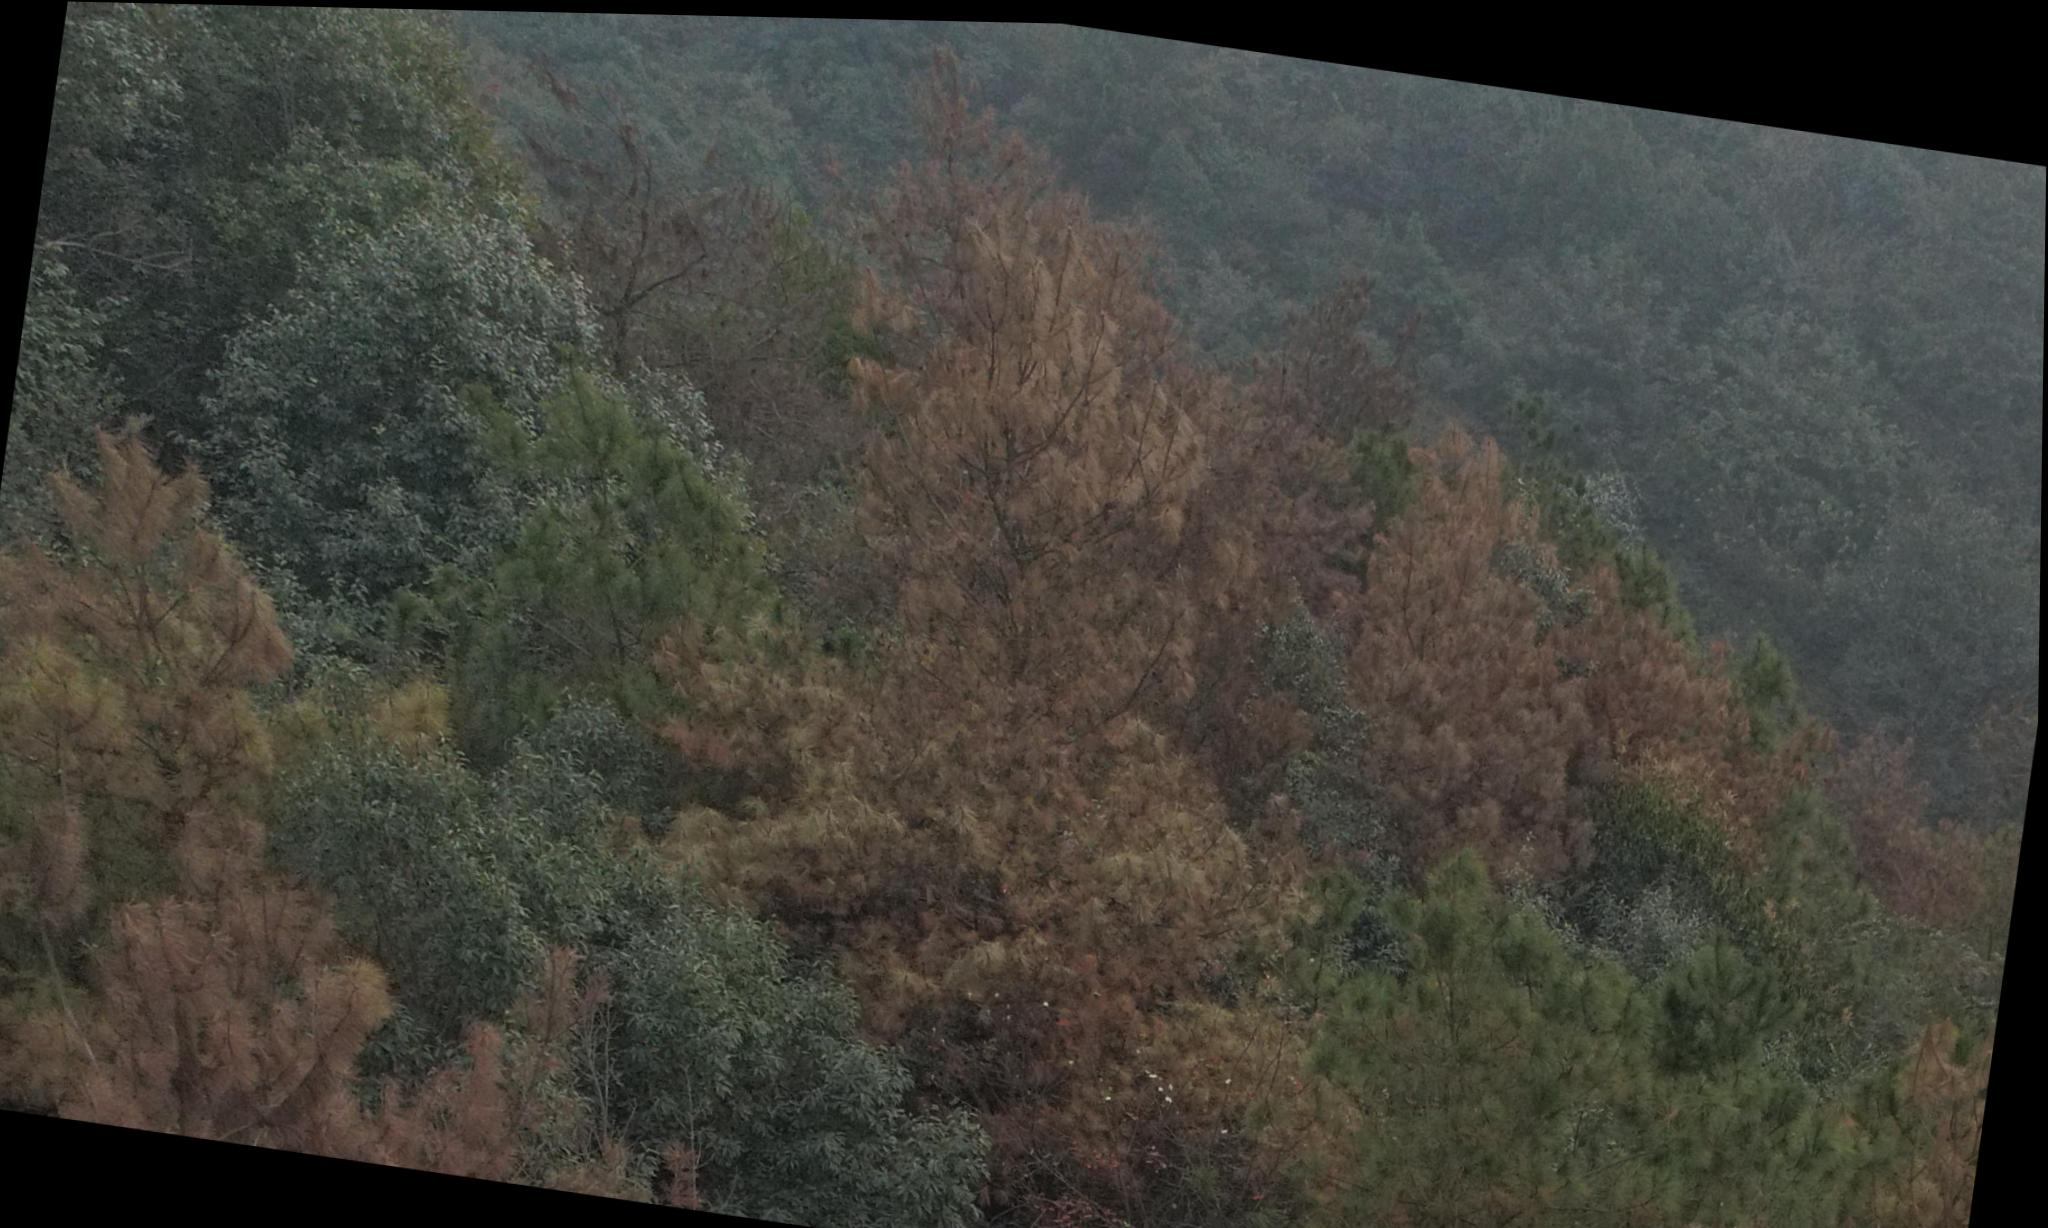heavy: (658, 104, 1323, 1080), (0, 415, 649, 1189), (1291, 420, 1824, 928), (1647, 977, 1998, 1228), (1779, 659, 2030, 965)
light: (1191, 874, 1643, 1228)
